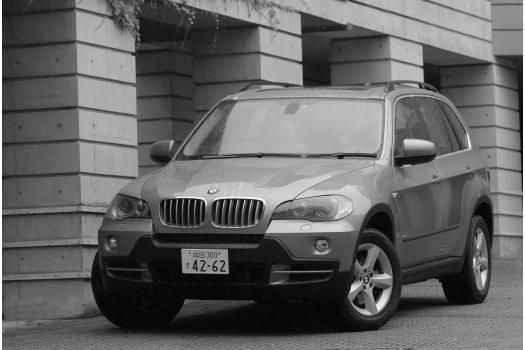car: (87, 78, 503, 337)
